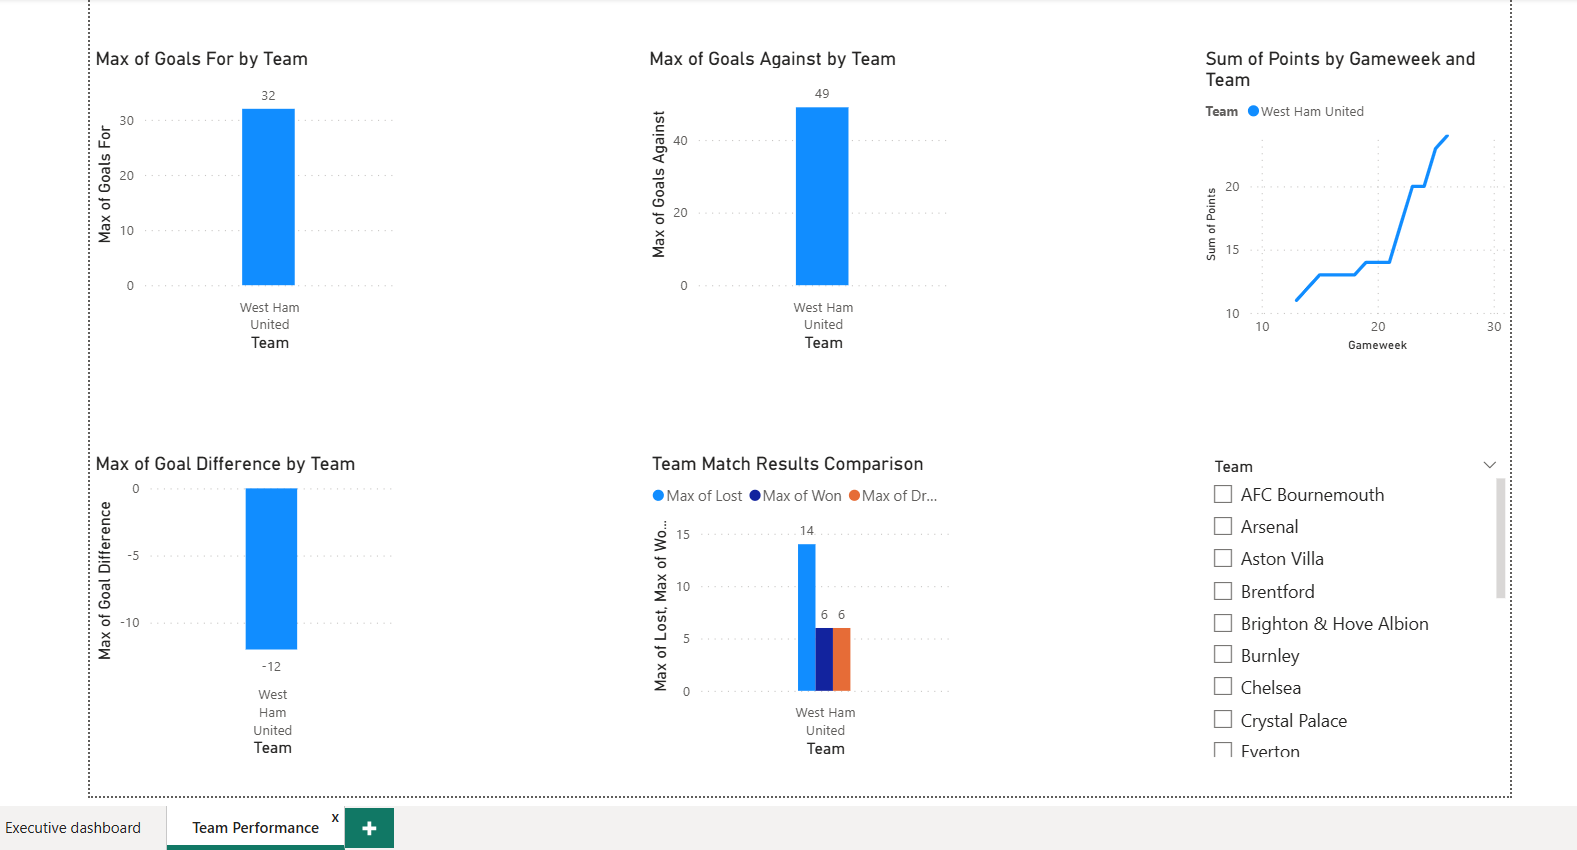

This screenshot's page, from the dashboard's own definition file:
{"tool":"powerbi","page":{"name":"Team Performance","canvas":[1280,720],"ordinal":1},"visuals":[{"type":"clusteredColumnChart","fields":{"Category":["Premier_League_Cleaned.Team"],"Y":["Max(Premier_League_Cleaned.Goals For)"]},"box":[0,43.9,279.9,279.9],"z":0},{"type":"clusteredColumnChart","fields":{"Category":["Premier_League_Cleaned.Team"],"Y":["Max(Premier_League_Cleaned.Goals Against)"]},"box":[499.5,43.9,279.9,279.9],"z":1000},{"type":"clusteredColumnChart","fields":{"Category":["Premier_League_Cleaned.Team"],"Y":["Max(Premier_League_Cleaned.Goal Difference)"]},"box":[0,409.3,280.2,280.2],"z":2000},{"type":"clusteredColumnChart","title":"Team Match Results Comparison","fields":{"Category":["Premier_League_Cleaned.Team"],"Y":["Max(Premier_League_Cleaned.Lost)","Max(Premier_League_Cleaned.Won)","Max(Premier_League_Cleaned.Drawn)"]},"box":[501.2,409.3,279.1,280.2],"z":3000},{"type":"lineChart","fields":{"Category":["Premier_League_Cleaned.Gameweek"],"Y":["Sum(Premier_League_Cleaned.Points)"],"Series":["Premier_League_Cleaned.Team"]},"box":[1000.3,43.9,279.9,279.9],"z":4000},{"type":"slicer","fields":{"Values":["Premier_League_Cleaned.Team"]},"box":[1000,409.3,280.2,280.2],"z":5000}]}

Visuals, with their boxes on the page's 1280x720 design canvas (x1, y1, x2, y2). These are canvas units, not pixel positions in the 1577x850 screenshot, which may show the page scaled, cropped or inside an application window:
clusteredColumnChart - Premier_League_Cleaned.Team x Max(Premier_League_Cleaned.Goals For): locate(0, 44, 280, 324)
clusteredColumnChart - Premier_League_Cleaned.Team x Max(Premier_League_Cleaned.Goals Against): locate(500, 44, 779, 324)
clusteredColumnChart - Premier_League_Cleaned.Team x Max(Premier_League_Cleaned.Goal Difference): locate(0, 409, 280, 690)
"Team Match Results Comparison" clusteredColumnChart: locate(501, 409, 780, 690)
lineChart - Premier_League_Cleaned.Gameweek x Sum(Premier_League_Cleaned.Points): locate(1000, 44, 1280, 324)
slicer - Premier_League_Cleaned.Team: locate(1000, 409, 1280, 690)
